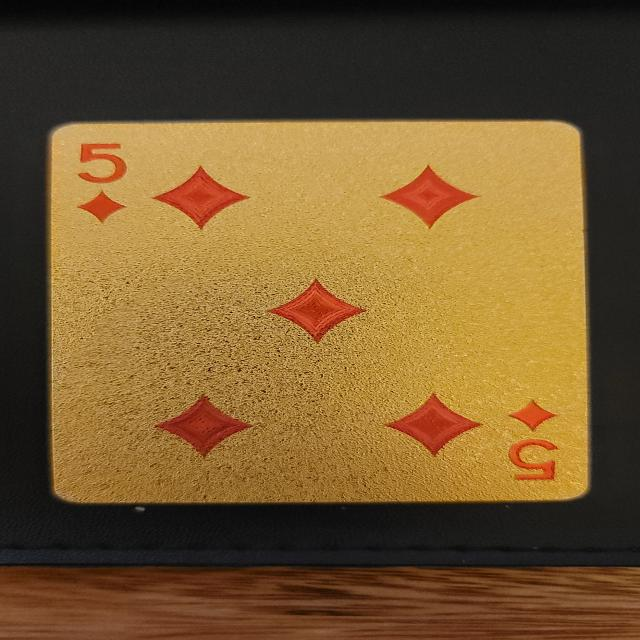5 of diamonds: (50, 121, 589, 502)
